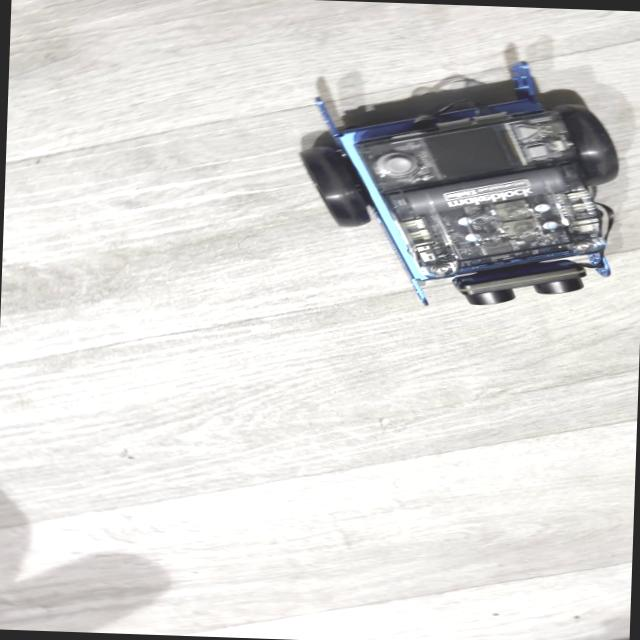mbot-detection: (285, 48, 626, 317)
